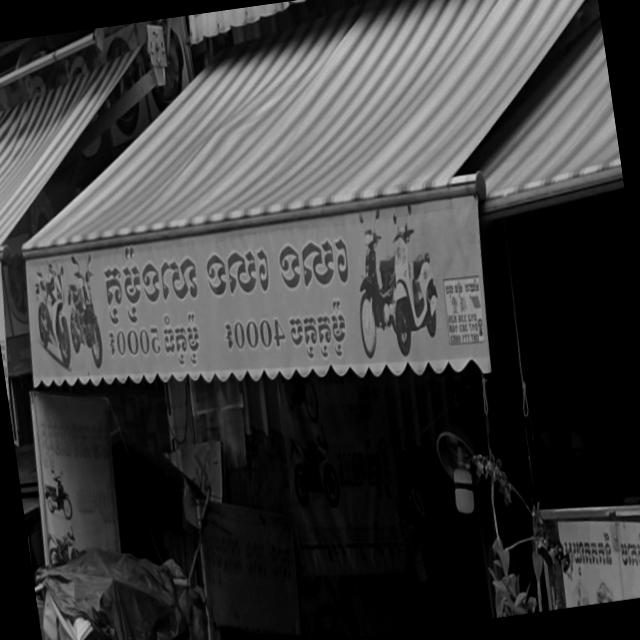2: (96, 214, 353, 328)
Yolov11_80vkh: (284, 293, 354, 365), (560, 529, 616, 579), (160, 311, 201, 367), (618, 528, 640, 581)
